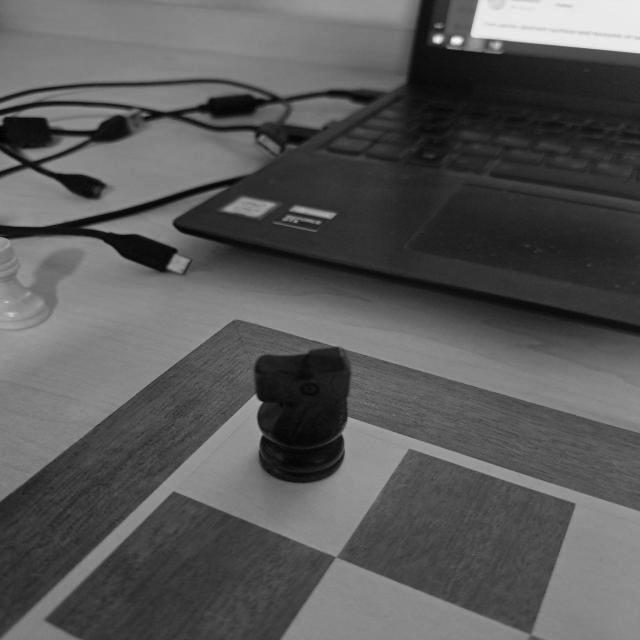chess-table-corners: (192, 366, 346, 440)
